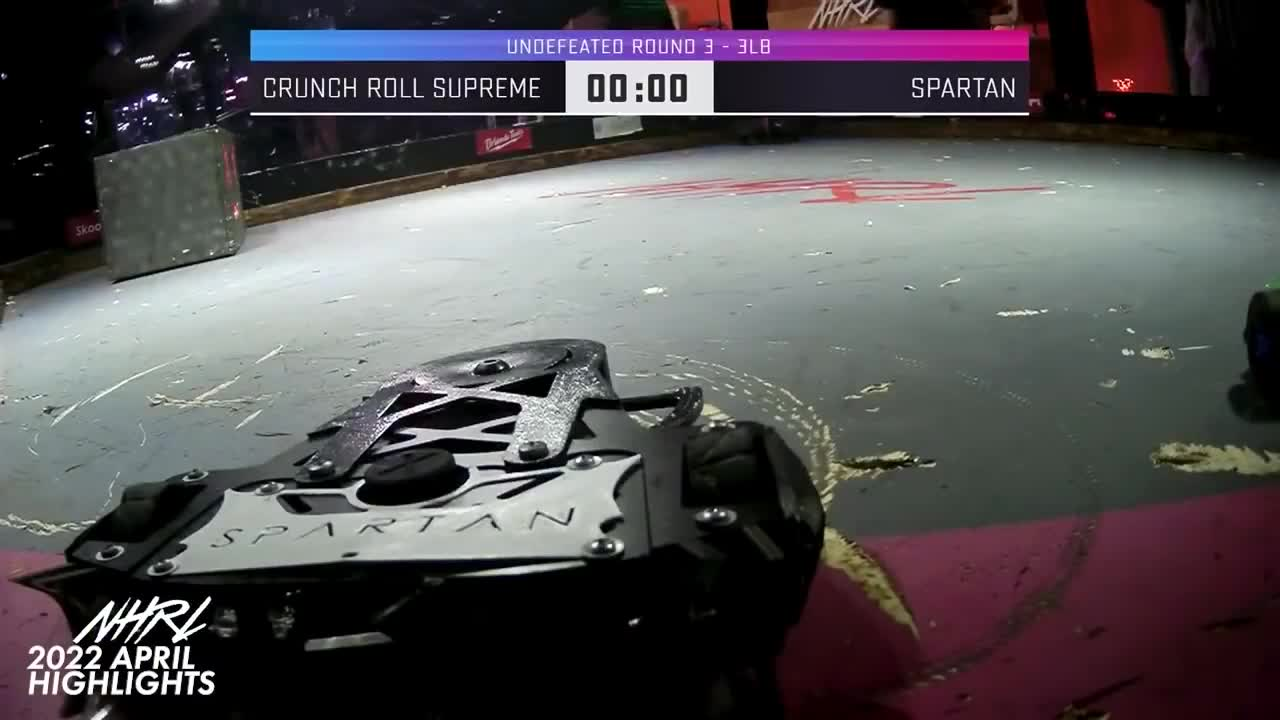combatbot: (8, 333, 827, 720), (1229, 277, 1280, 423)
housebot: (96, 129, 247, 284)
